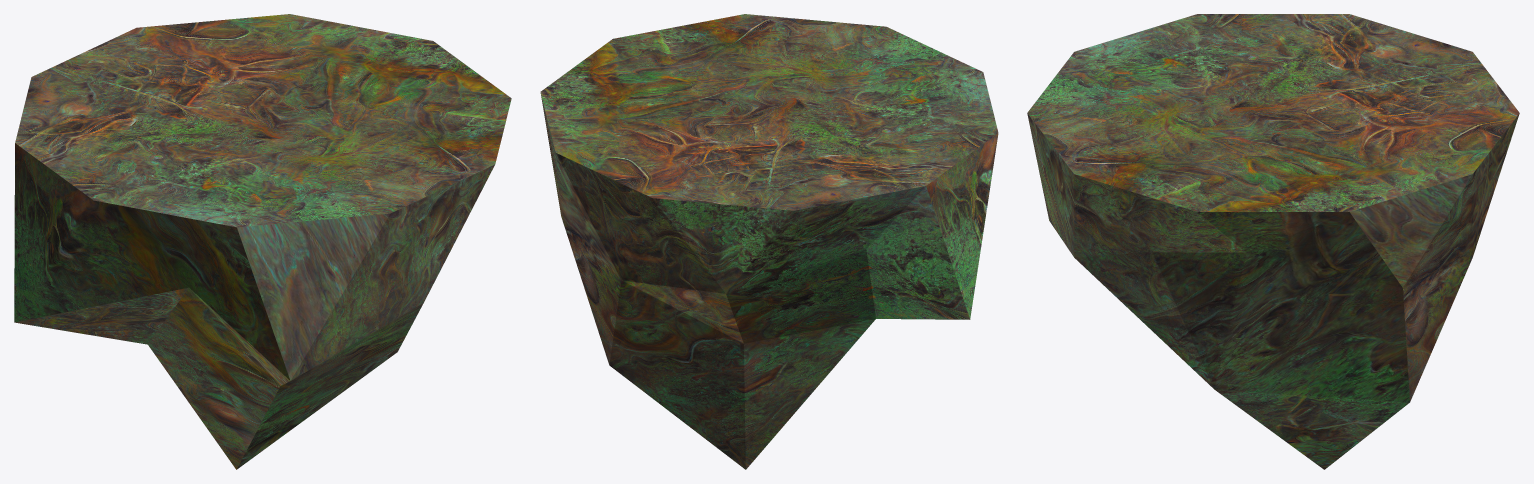
Rendered from default_island.fbx.
3 views of the same model, side by side, from view 1: azimuth 30°, elevation 25°; view 2: azimuth 150°, elevation 25°; view 3: azimuth 270°, elevation 25° (orthographic). The views are drawn at different scales.
Visible parts, largest first — view 1: Icosphere; view 2: Icosphere; view 3: Icosphere.
Part boxes in pixels (x1,y1,x2,y2): Icosphere: (14,14,511,469); Icosphere: (540,14,998,469); Icosphere: (1027,14,1519,469).
Size of the model in its own units: 675 by 537 by 671.
